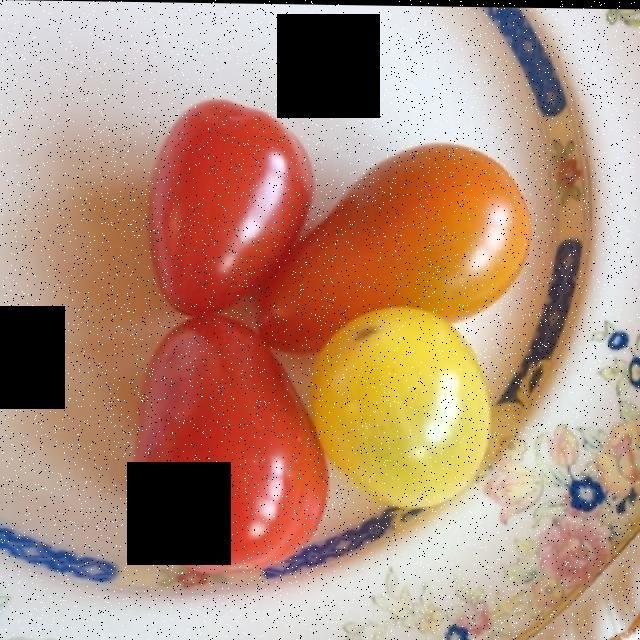tomato: (137, 110, 530, 562)
